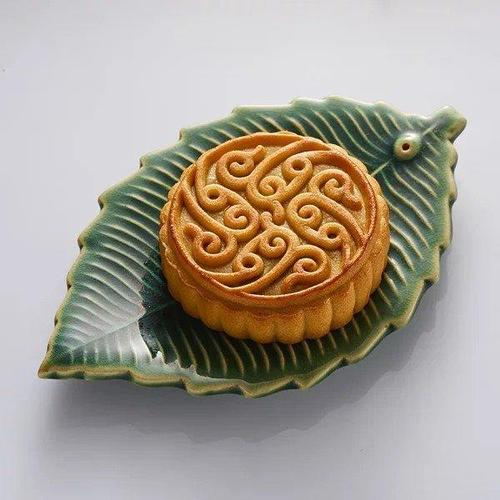MoonCake: (159, 133, 391, 343)
